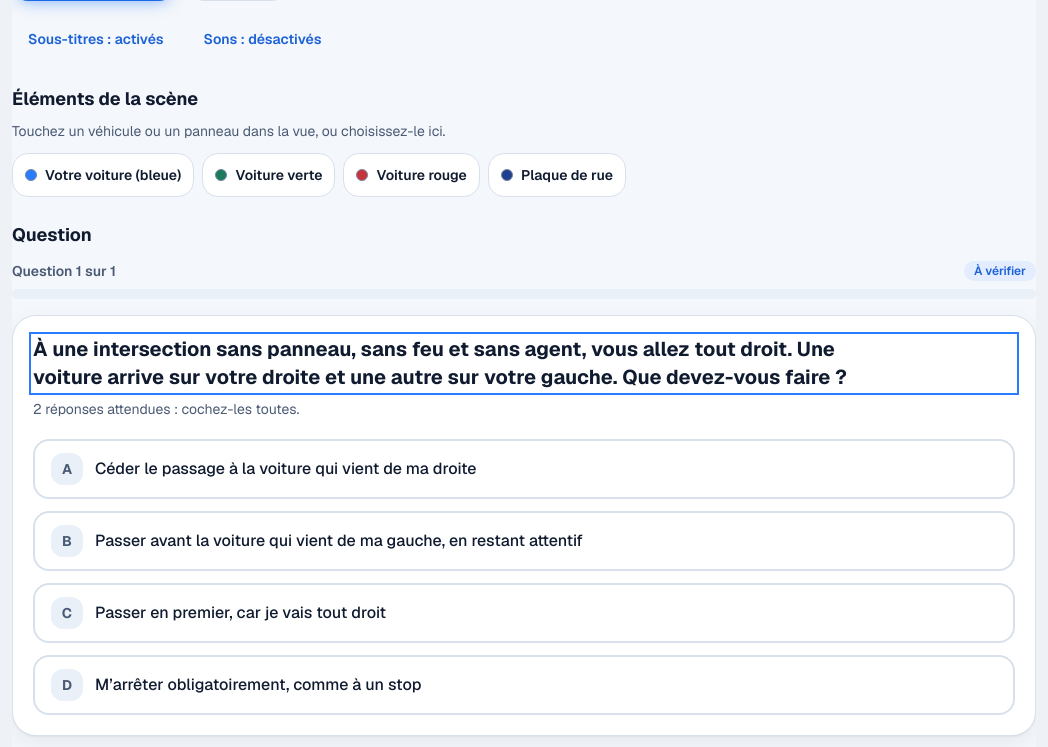
Test case: lecteur de scène › active les sons seulement à la demande
(page scrolled)
Step 1. Click the button "Sons : désactivés" → (262, 39), box [188,17,337,61]
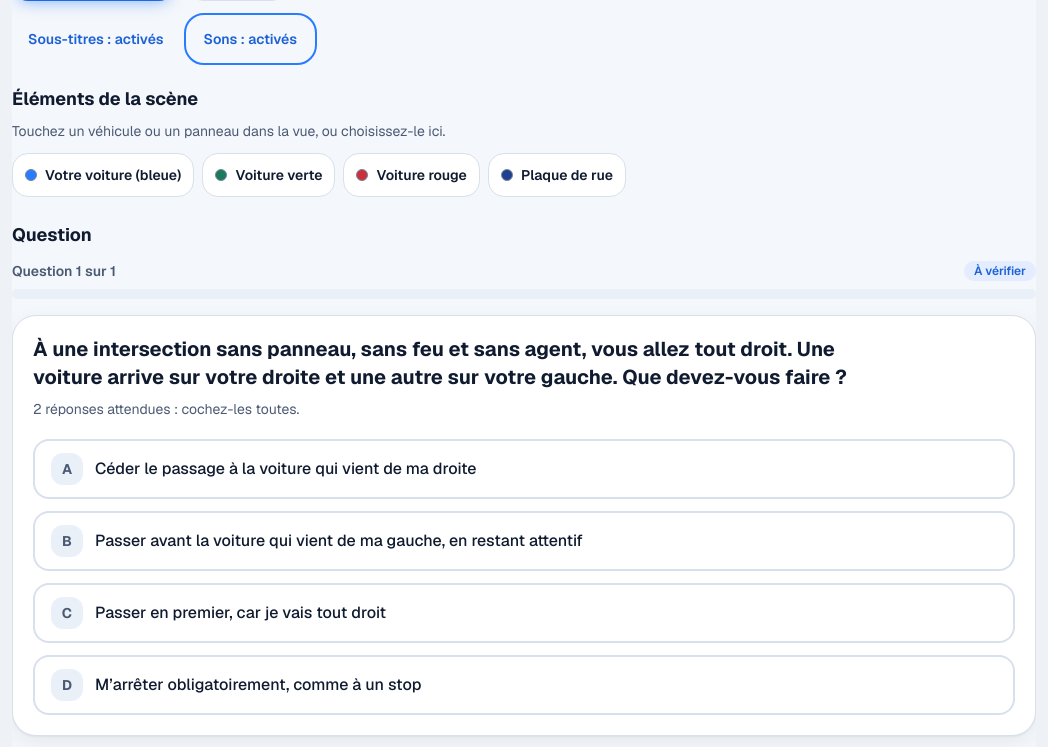
Expected: the button "Sons : activés" is pressed
Step 2. Click the button "Sons : activés" → (250, 39), box [188,17,313,61]
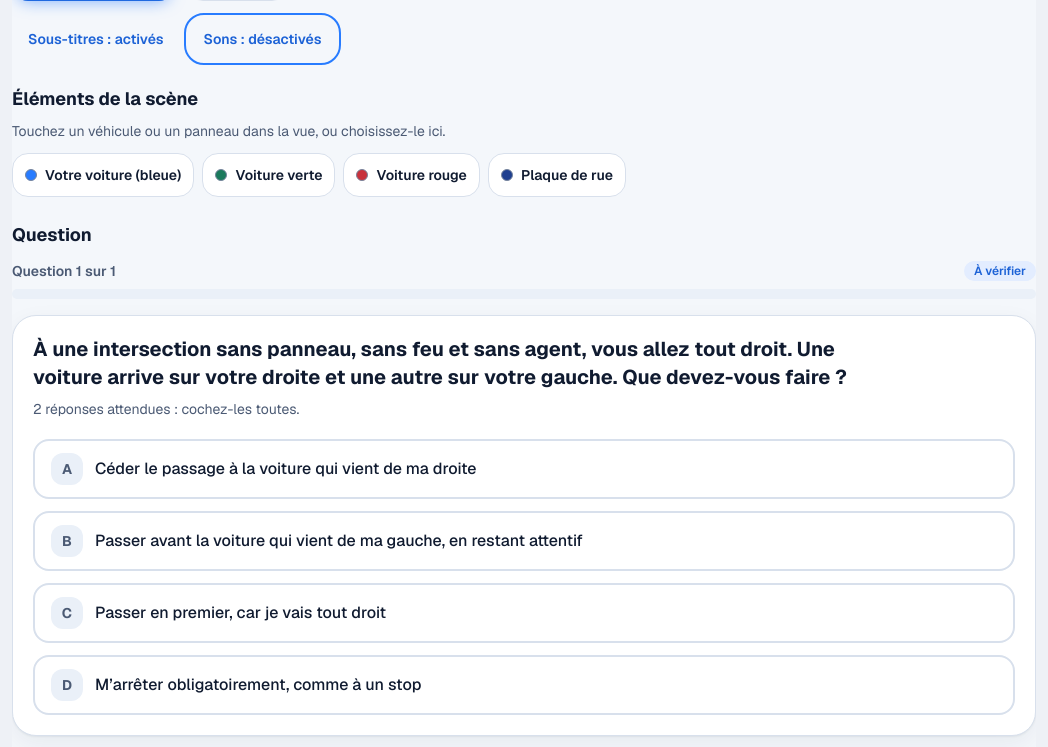
Expected: the button "Sons : désactivés" is shown, [188,17,337,61]
